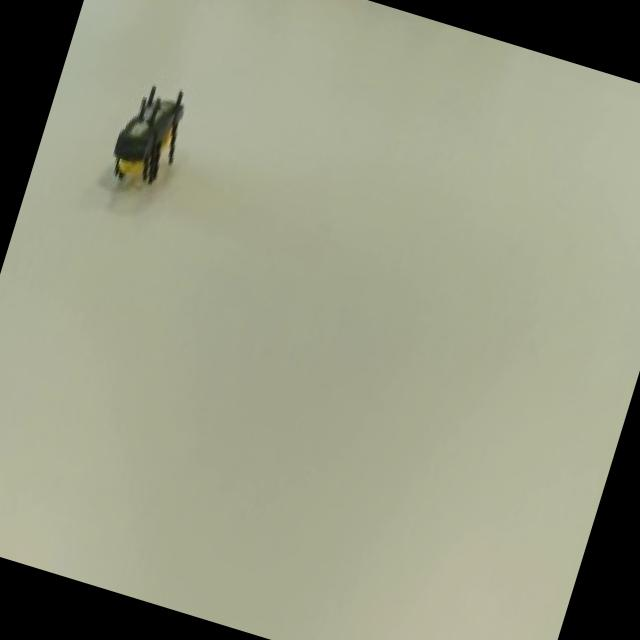6_NanoBug_GrisOscuro: (56, 22, 235, 250)
